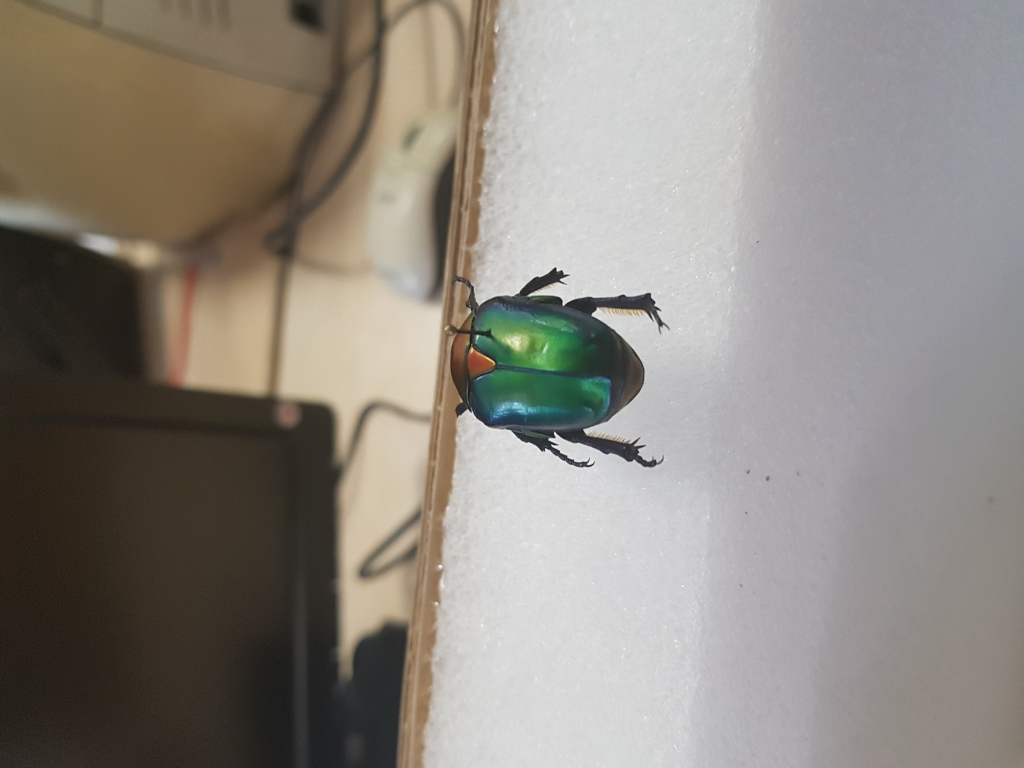Protaetia_speciosa_jousseliniw: (445, 268, 676, 471)
